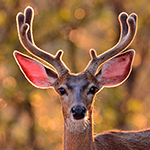deer: (12, 4, 138, 130)
